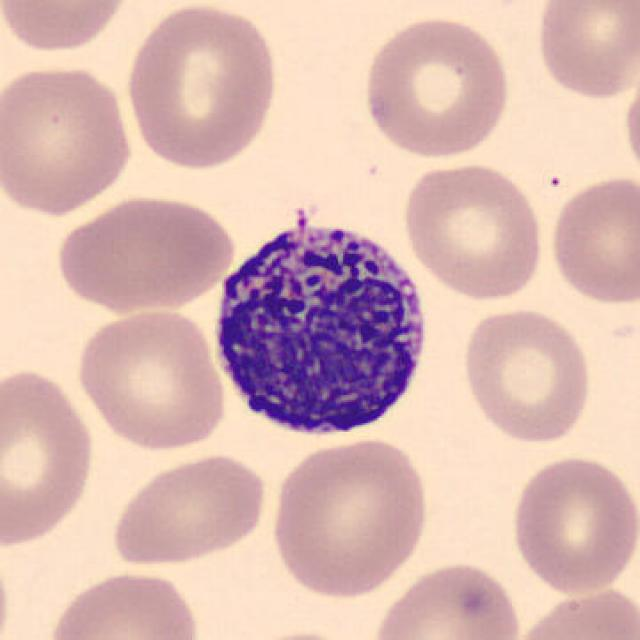Basophil: (205, 201, 438, 446)
RBC: (266, 434, 434, 601), (121, 0, 283, 173), (50, 190, 240, 316), (359, 11, 514, 160), (73, 305, 227, 453), (0, 60, 137, 219), (398, 159, 548, 303), (457, 303, 594, 446), (107, 450, 270, 570), (507, 451, 638, 598), (0, 362, 100, 554), (368, 557, 526, 640), (546, 171, 638, 309), (44, 566, 202, 640), (531, 0, 638, 102), (508, 580, 638, 640), (0, 0, 137, 55), (620, 63, 640, 187), (224, 626, 372, 640)
